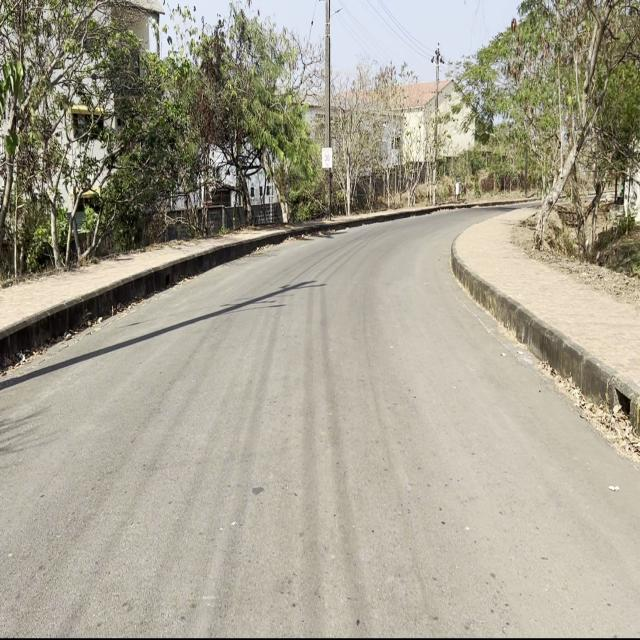Road: (1, 216, 639, 634)
